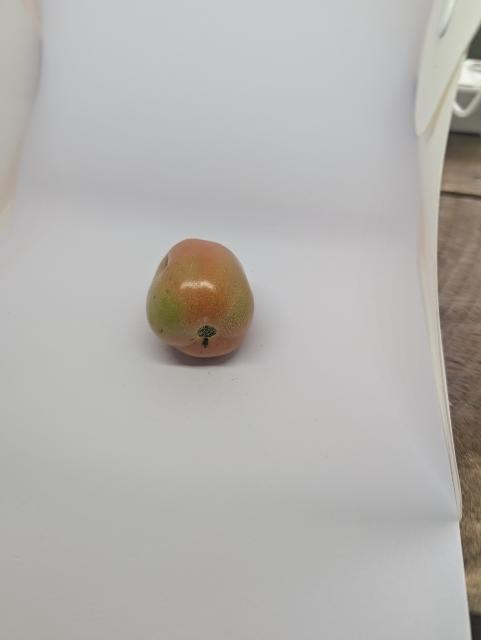turning: (118, 222, 307, 378)
